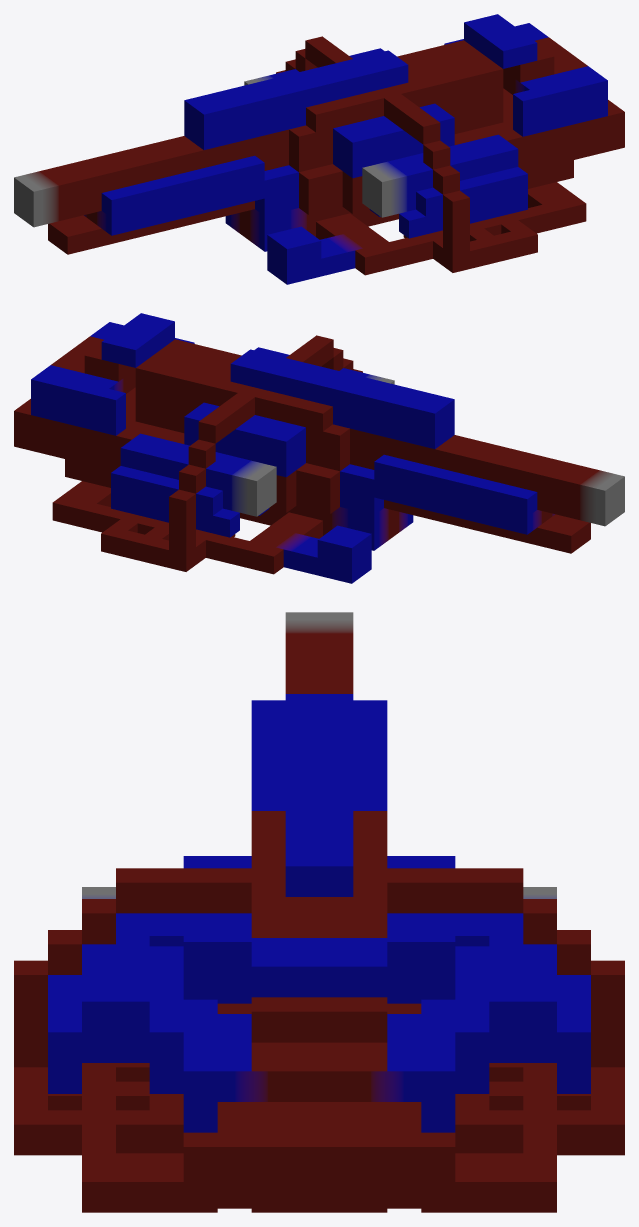
The model's file is Player_4.fbx.
3 views of the same model, one above another, from view 1: azimuth 30°, elevation 25°; view 2: azimuth 150°, elevation 25°; view 3: azimuth 270°, elevation 25° (orthographic). The views are drawn at different scales.
Parts seen in each view (by area): view 1: Player_4; view 2: Player_4; view 3: Player_4.
Boxes of the visible parts, x1,y1,x2,y2 form: Player_4: (14,14,624,284); Player_4: (14,313,624,583); Player_4: (14,612,624,1212).
Size of the model in its own units: 33 by 8 by 18.
1 material, 1 textured.
